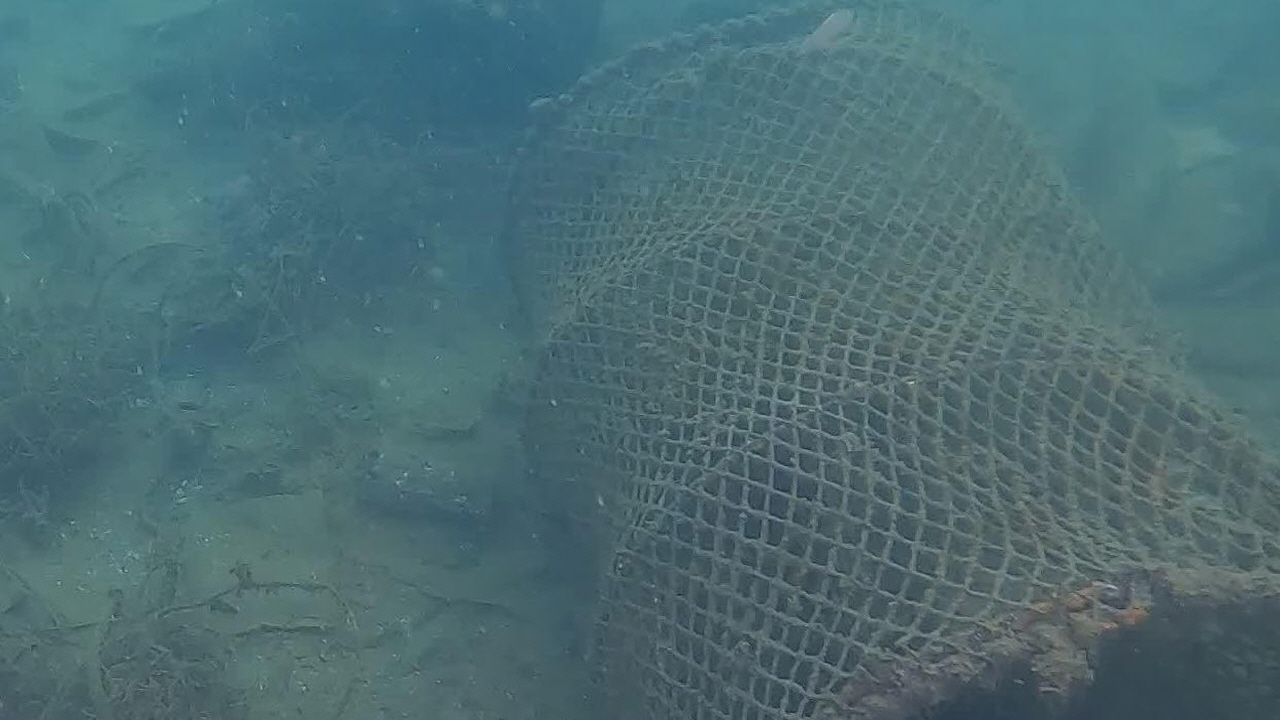spring fish trap: (504, 0, 1280, 720)
